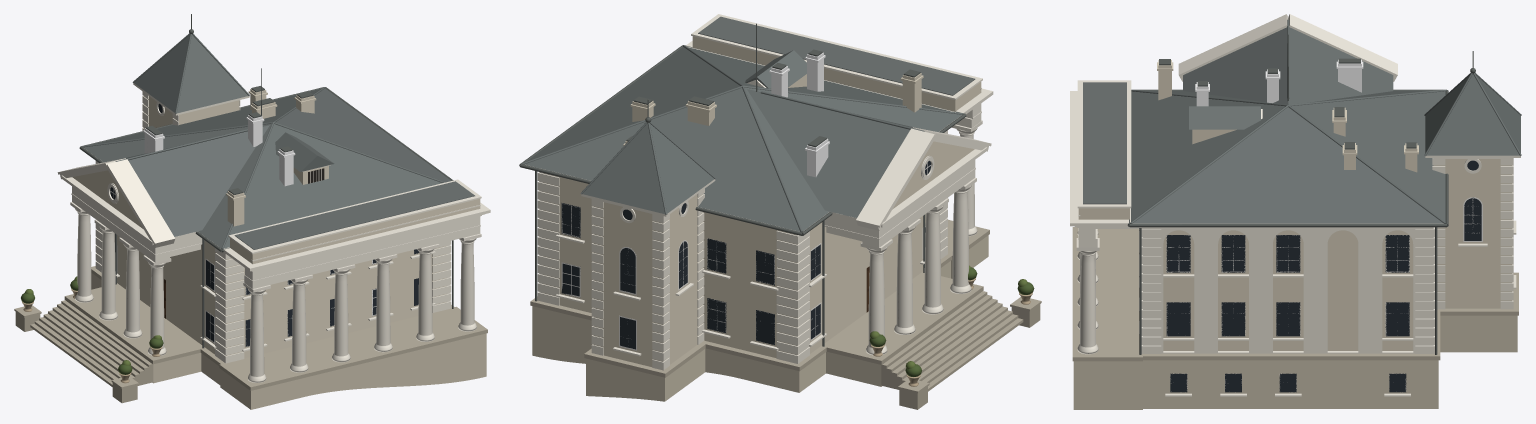
Rendered from worobin.glb.
3 renders of one model, left to right at view 1: azimuth 30°, elevation 25°; view 2: azimuth 150°, elevation 25°; view 3: azimuth 270°, elevation 25°, orthographic. The views are drawn at different scales.
Parts seen in each view (by area): view 1: worobin; view 2: worobin; view 3: worobin.
Boxes of the visible parts, left/top/right/bottom form: worobin: left=14, top=14, right=490, bottom=409; worobin: left=519, top=14, right=1041, bottom=409; worobin: left=1070, top=14, right=1521, bottom=409.
Bounding box in the file's own units: 0.5682 × 0.4458 × 0.6.
